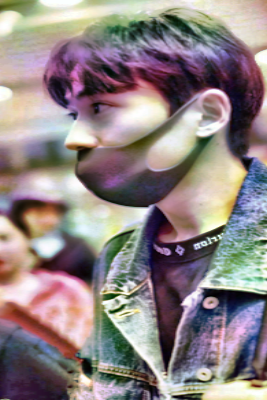mask_weared_incorrect: (64, 97, 199, 207)
